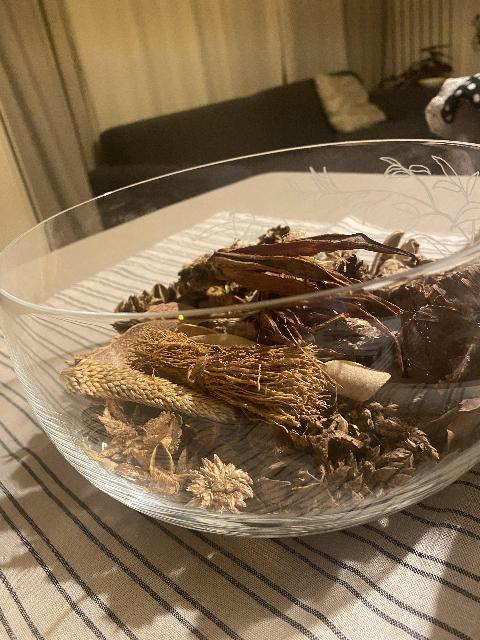Cam: (8, 142, 480, 540)
